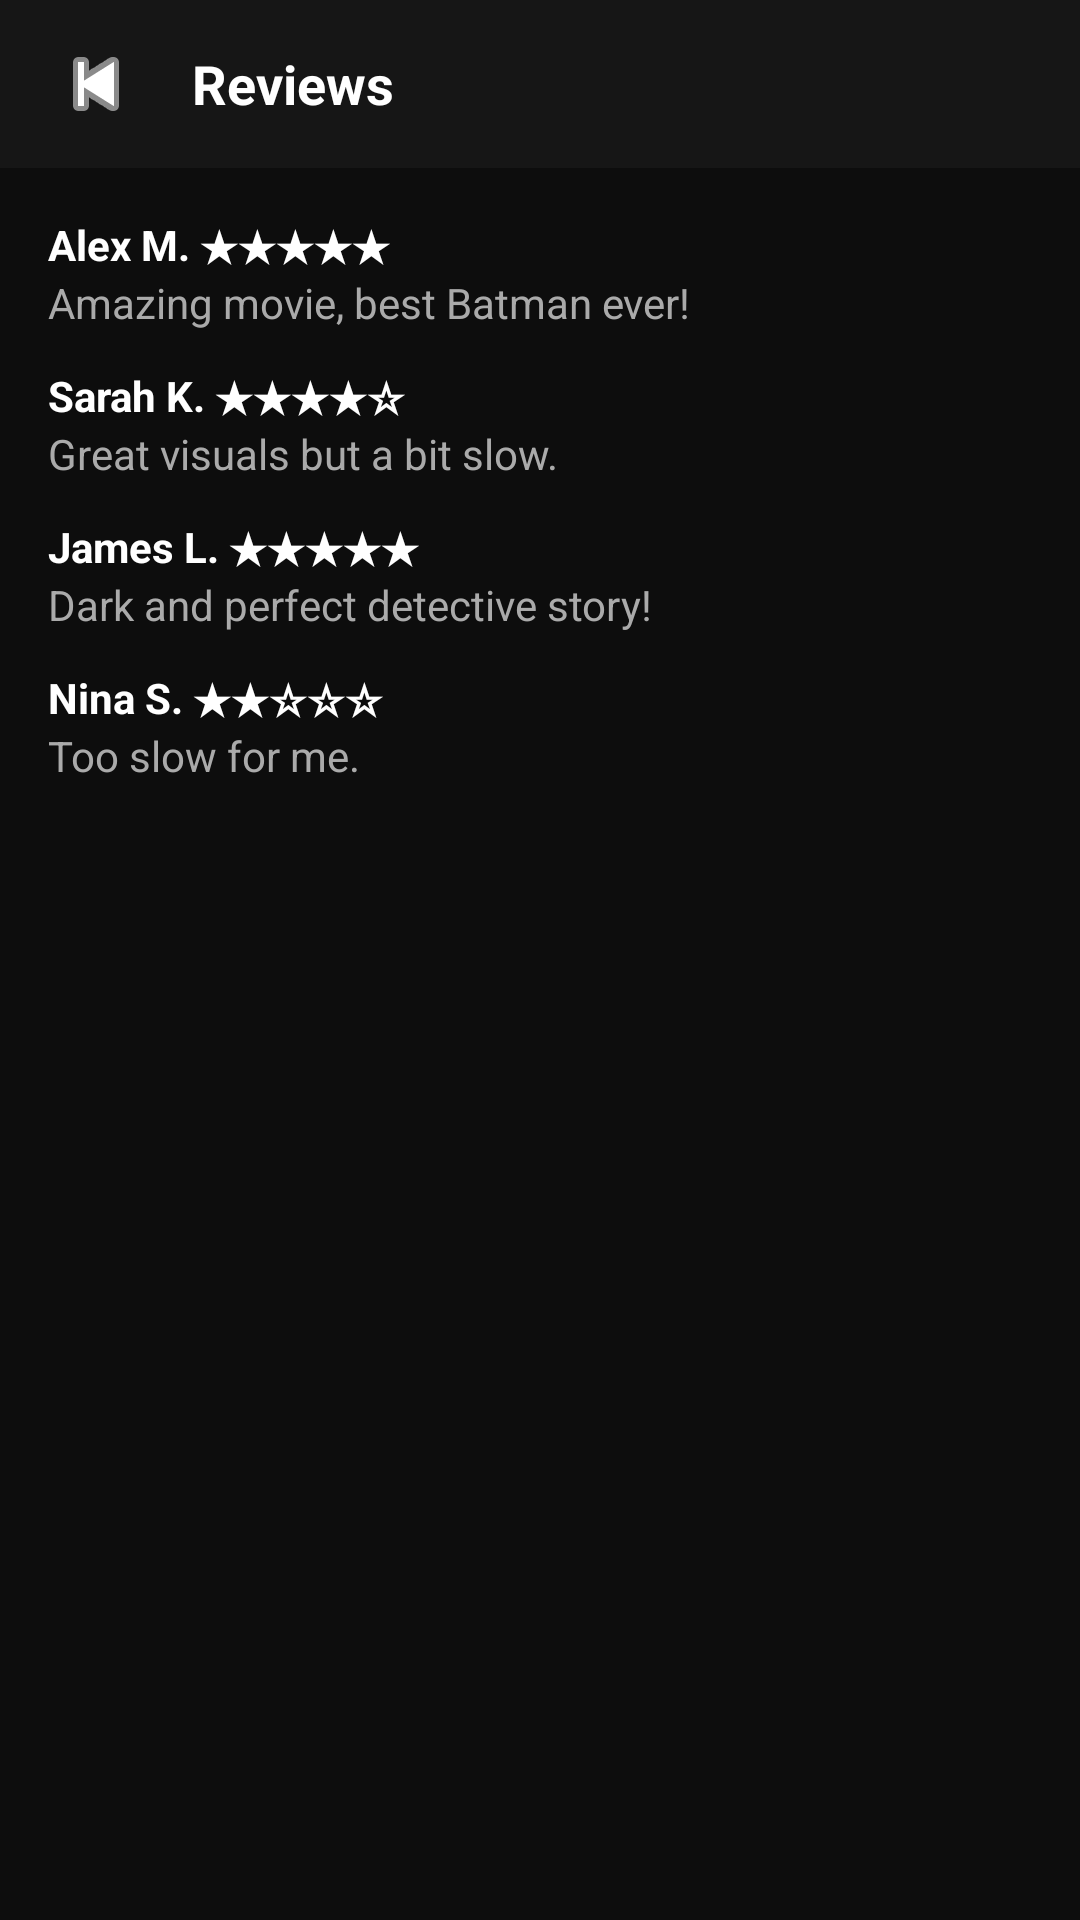

Screen size 1080×1920. Icon name, then its box in pixels as {"x1": x1, "y1": y1, "x2": x2, "y2": y2}:
Back: {"x1": 73, "y1": 57, "x2": 119, "y2": 111}
